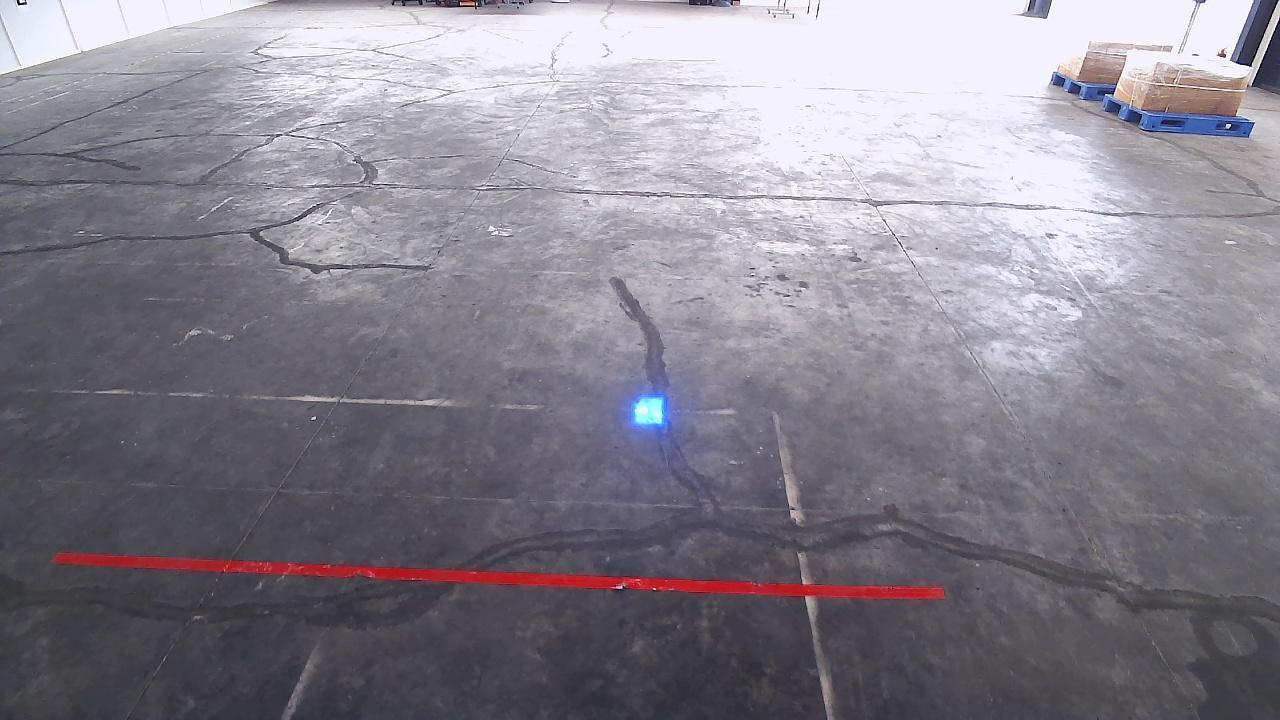red_line: (53, 551, 947, 598)
